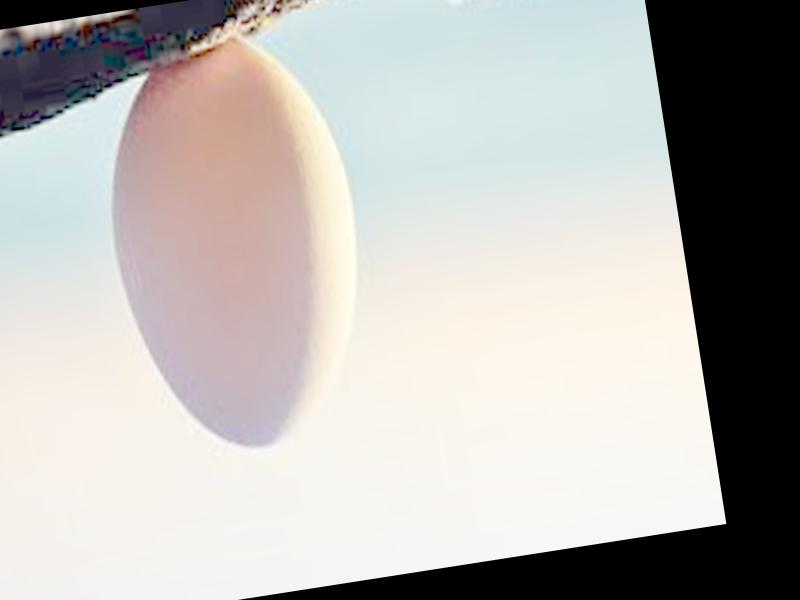Eggs: (86, 29, 388, 468)
